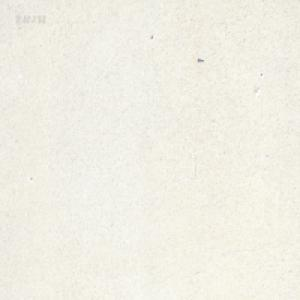Nail: (197, 56, 204, 62)
